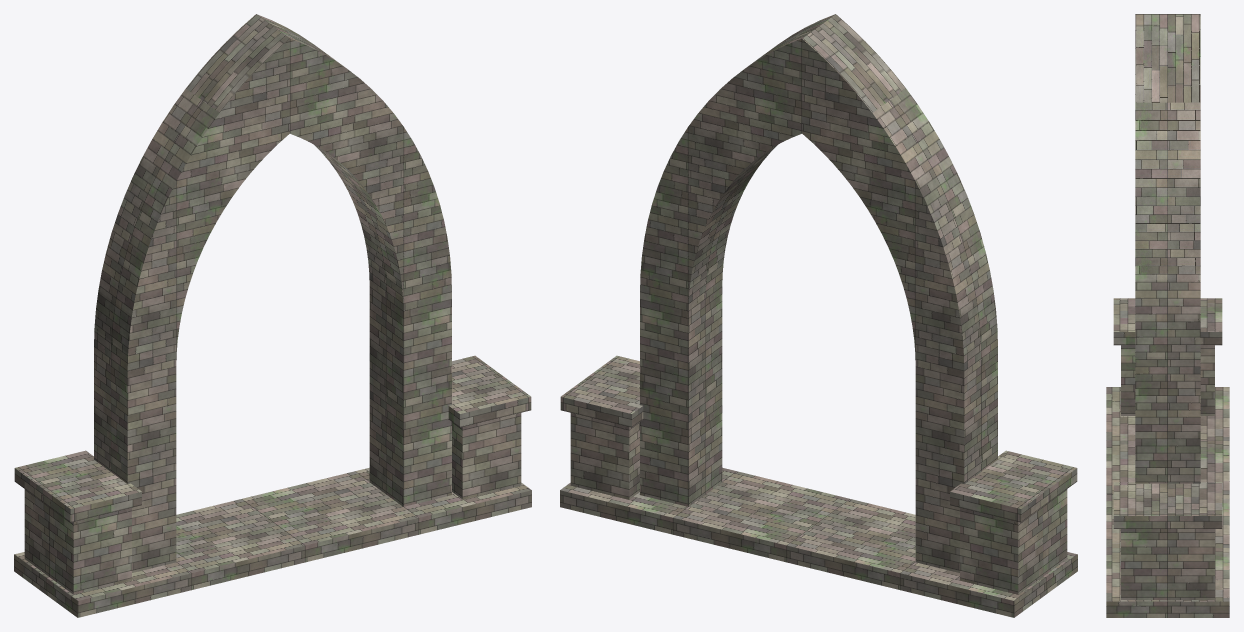
Rendered from SM_dw_portal_frame.glb.
The picture shows the model from 3 angles, left to right: view 1: azimuth 30°, elevation 25°; view 2: azimuth 150°, elevation 25°; view 3: azimuth 270°, elevation 25°; orthographic projection. The views are drawn at different scales.
Visible parts, largest first — view 1: SM_dw_portal_frame; view 2: SM_dw_portal_frame; view 3: SM_dw_portal_frame.
Part boxes in pixels (left/top/right/bottom): SM_dw_portal_frame: left=14, top=14, right=531, bottom=617; SM_dw_portal_frame: left=560, top=14, right=1077, bottom=617; SM_dw_portal_frame: left=1106, top=14, right=1229, bottom=617.
Bounding box in the file's own units: 14.2 × 15.11 × 3.4.
Materials: 1 (1 with a texture image).
